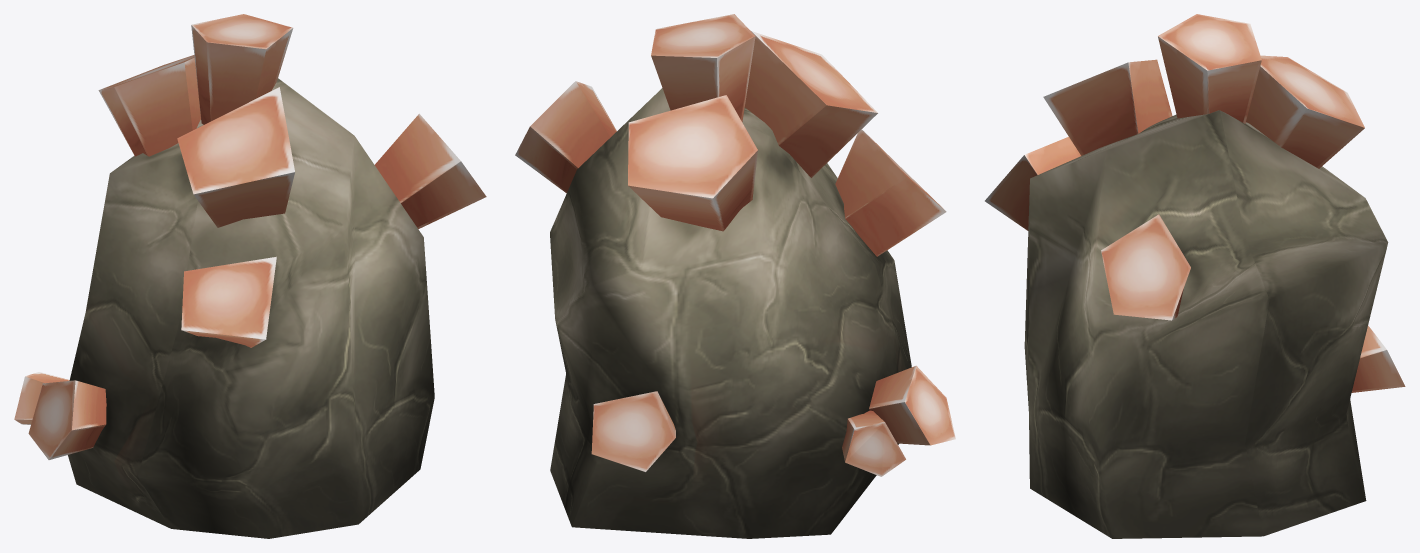
Rendered from ore_big_bronze.fbx.
3 views of the same model, side by side, from view 1: azimuth 30°, elevation 25°; view 2: azimuth 150°, elevation 25°; view 3: azimuth 270°, elevation 25° (orthographic). The views are drawn at different scales.
Visible parts, largest first — view 1: ore_big_bronze:Mesh; view 2: ore_big_bronze:Mesh; view 3: ore_big_bronze:Mesh.
Boxes of the visible parts, x1,y1,x2,y2 form: ore_big_bronze:Mesh: [14, 14, 486, 538]; ore_big_bronze:Mesh: [515, 14, 955, 538]; ore_big_bronze:Mesh: [985, 14, 1405, 538].
Size of the model in its own units: 4.94 by 4.9 by 4.24.
